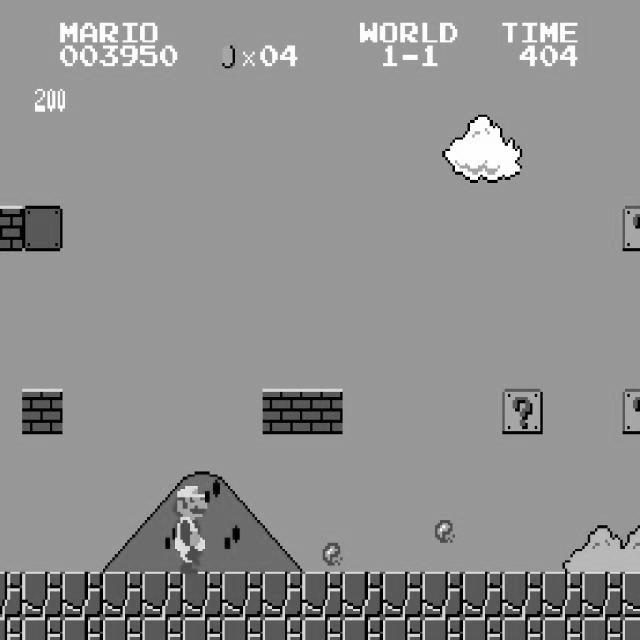1- brick_block: (22, 388, 63, 434), (262, 388, 303, 434), (302, 388, 343, 434), (0, 206, 22, 251)
13- mystery_block: (502, 388, 543, 434), (622, 205, 640, 251), (622, 388, 640, 434)
17- undestructible_block: (22, 572, 63, 618), (62, 572, 103, 618), (102, 572, 143, 618), (142, 572, 183, 618), (182, 572, 223, 618), (222, 572, 263, 618), (262, 572, 303, 618), (302, 572, 343, 618), (342, 572, 383, 618), (382, 572, 423, 618), (422, 572, 463, 618), (462, 572, 503, 618), (502, 572, 543, 618), (542, 572, 583, 618), (582, 572, 623, 618), (0, 572, 22, 618), (22, 617, 63, 640), (62, 617, 103, 640), (102, 617, 143, 640), (142, 617, 183, 640), (182, 617, 223, 640), (222, 617, 263, 640), (262, 617, 303, 640), (302, 617, 343, 640), (342, 617, 383, 640), (382, 617, 423, 640), (422, 617, 463, 640), (462, 617, 503, 640), (502, 617, 543, 640), (542, 617, 583, 640), (582, 617, 623, 640), (622, 571, 640, 617), (0, 617, 22, 640), (622, 617, 640, 639)
3- empty_block: (22, 206, 63, 251)
4- fire_mario: (167, 480, 210, 574)
5- fireball: (435, 517, 455, 543), (322, 540, 342, 566)
